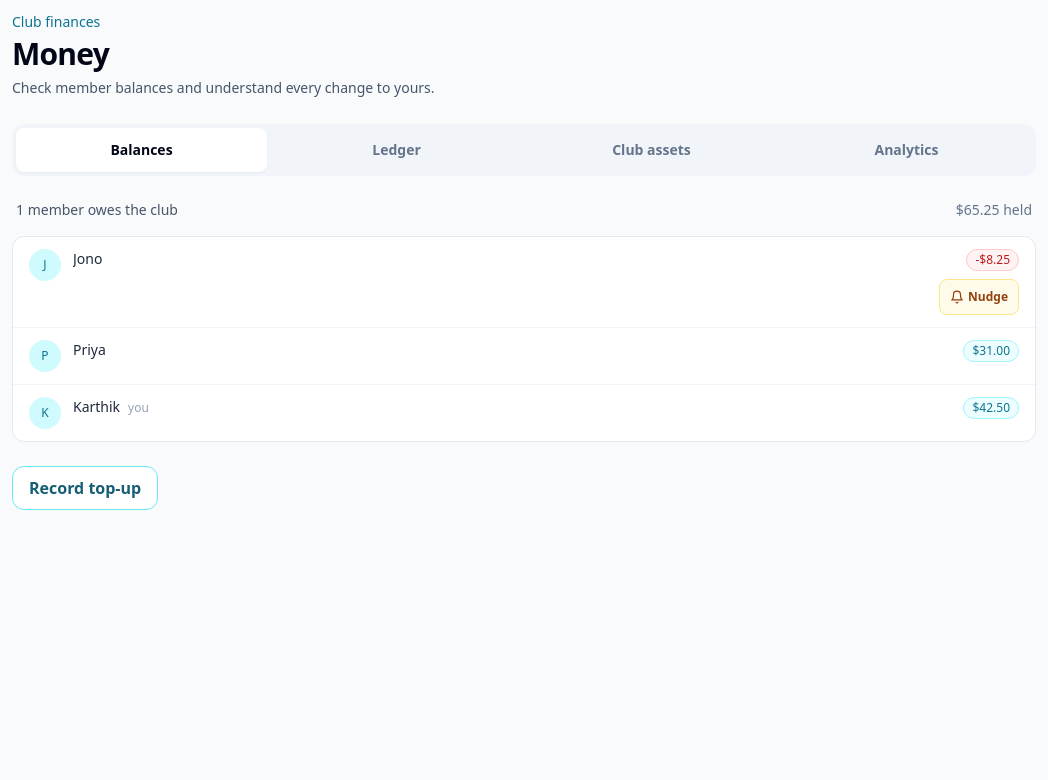
Money — club assets › surfaces a warning that the club cannot pay for the next session
This screenshot has width=1048, height=780.
Click the tab "Club assets".
click(652, 150)  # box [526,128,777,172]
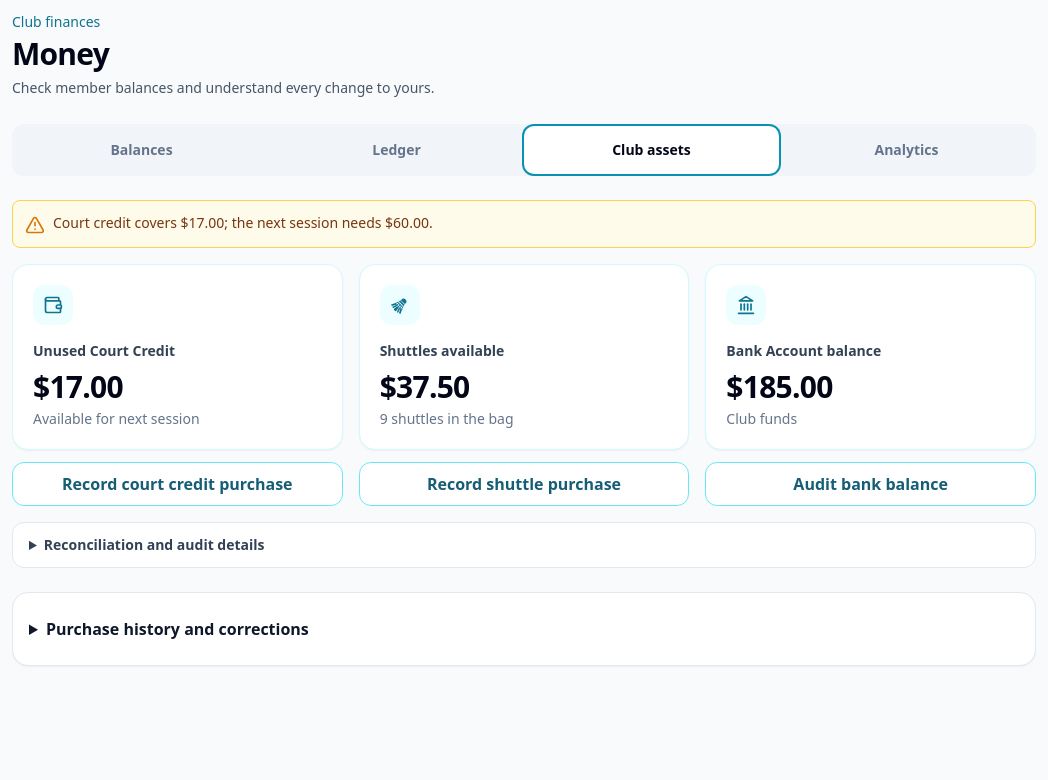
Now the text "Court credit covers $17.00; the next session needs $60.00." is shown, box [53,213,433,233]
